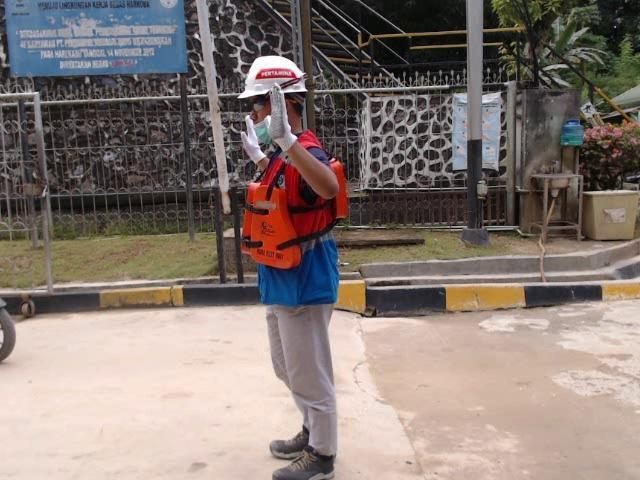vest: (240, 179, 303, 268)
